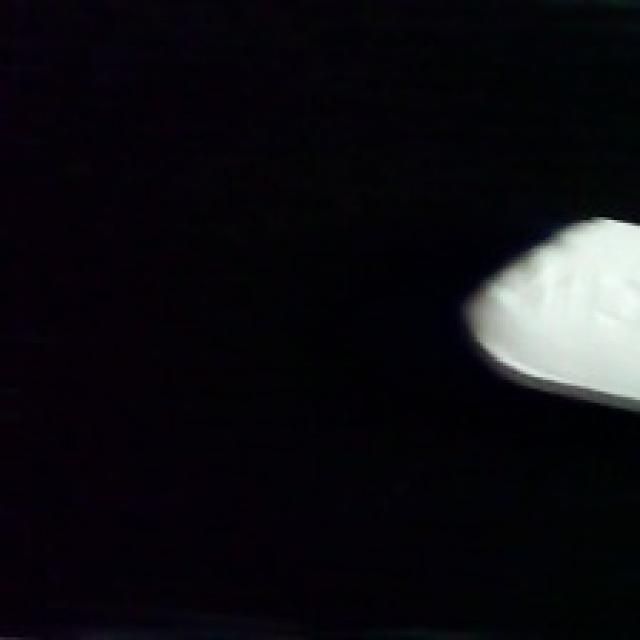defected: (454, 210, 640, 419)
